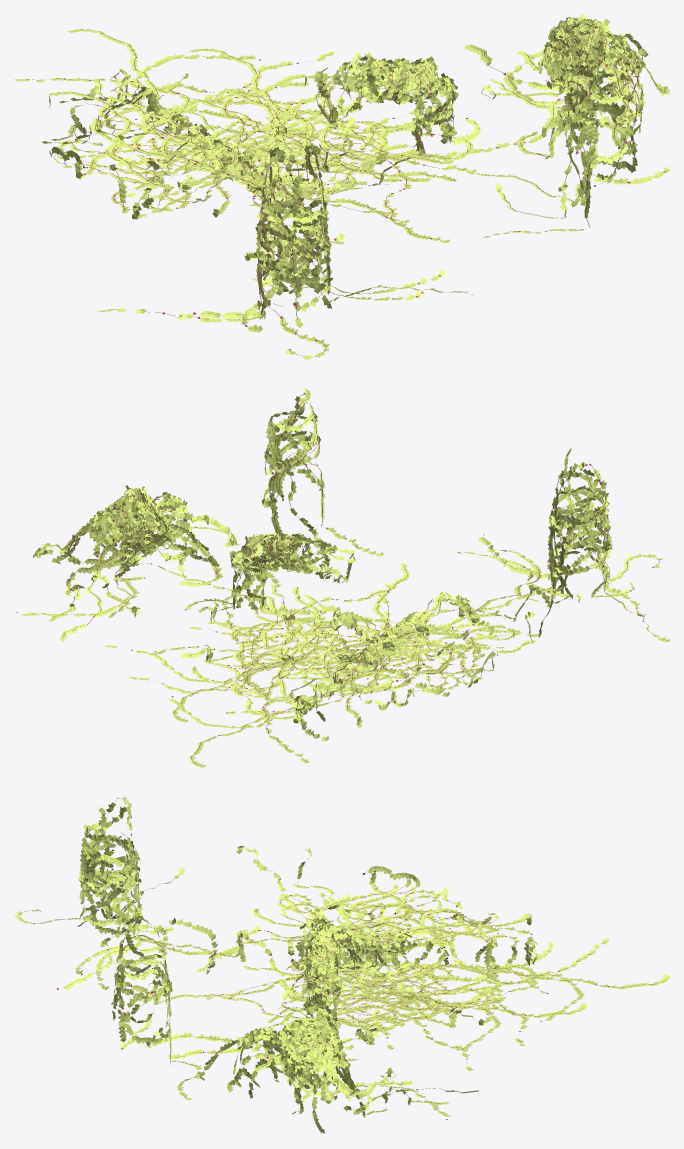
The model's file is Procedural Ivy Long(Clone).fbx.
3 renders of one model, top to bottom at view 1: azimuth 30°, elevation 25°; view 2: azimuth 150°, elevation 25°; view 3: azimuth 270°, elevation 25°, orthographic. The views are drawn at different scales.
Parts seen in each view (by area): view 1: Combined mesh (×3); view 2: Combined mesh (×3); view 3: Combined mesh (×3).
Boxes of the visible parts, x1,y1,x2,y2 form: Combined mesh (×3): (14,14,669,359); Combined mesh (×3): (15,388,669,767); Combined mesh (×3): (14,796,669,1133).
Bounding box in the file's own units: 22.01 × 5.57 × 23.09.
